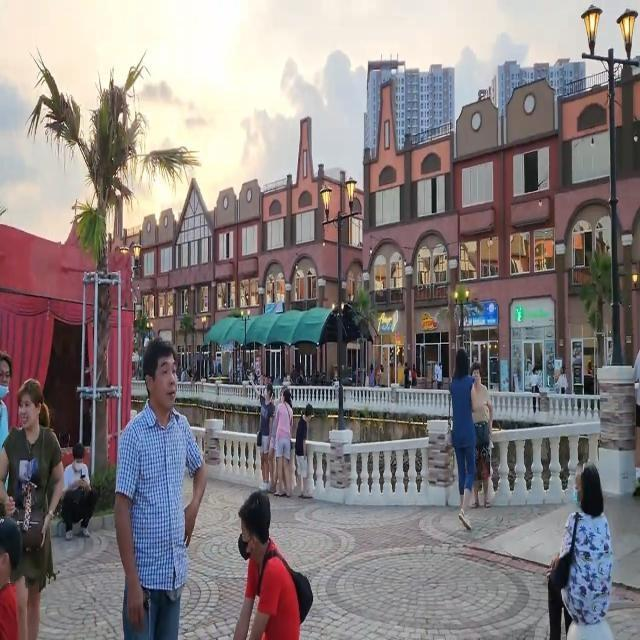hairnet: (0, 354, 10, 402)
